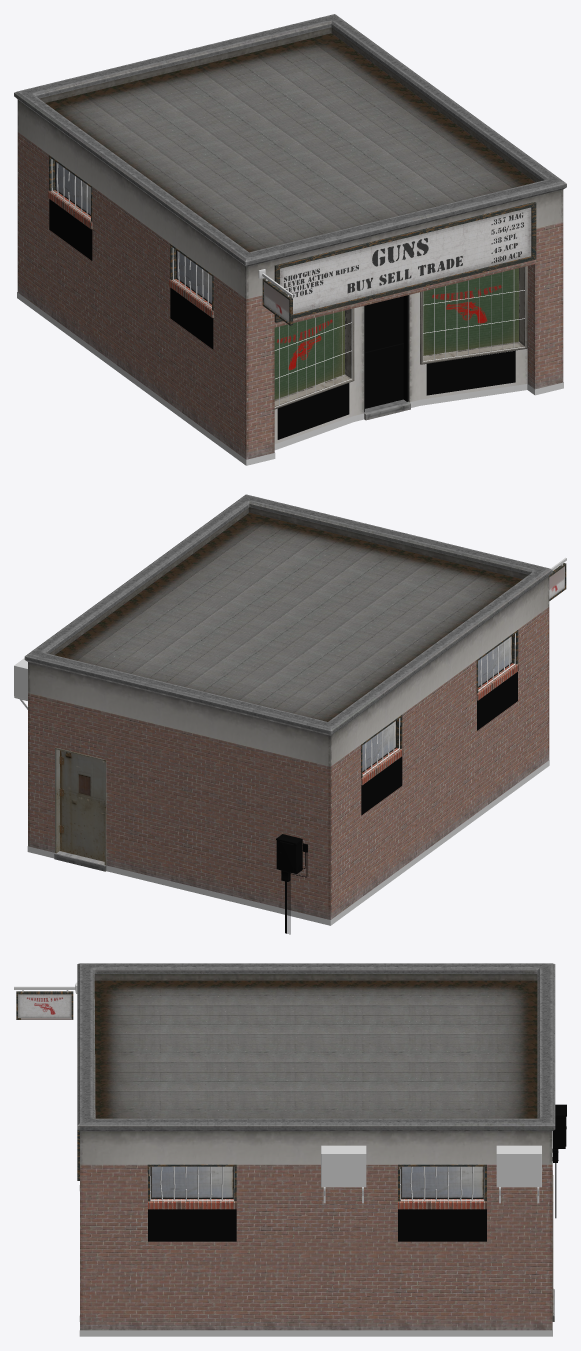
File: gun_shop.glb
3 renders of one model, top to bottom at view 1: azimuth 30°, elevation 25°; view 2: azimuth 150°, elevation 25°; view 3: azimuth 270°, elevation 25°, orthographic. The views are drawn at different scales.
Visible parts, largest first — view 1: gun_shop; view 2: gun_shop; view 3: gun_shop.
Part boxes in pixels (box(x1,y1,x2,y2)): gun_shop: box(14, 14, 566, 465); gun_shop: box(14, 494, 566, 934); gun_shop: box(14, 963, 566, 1336).
Bounding box in the file's own units: 9 × 5.68 × 12.29.
8 materials, 7 textured.
